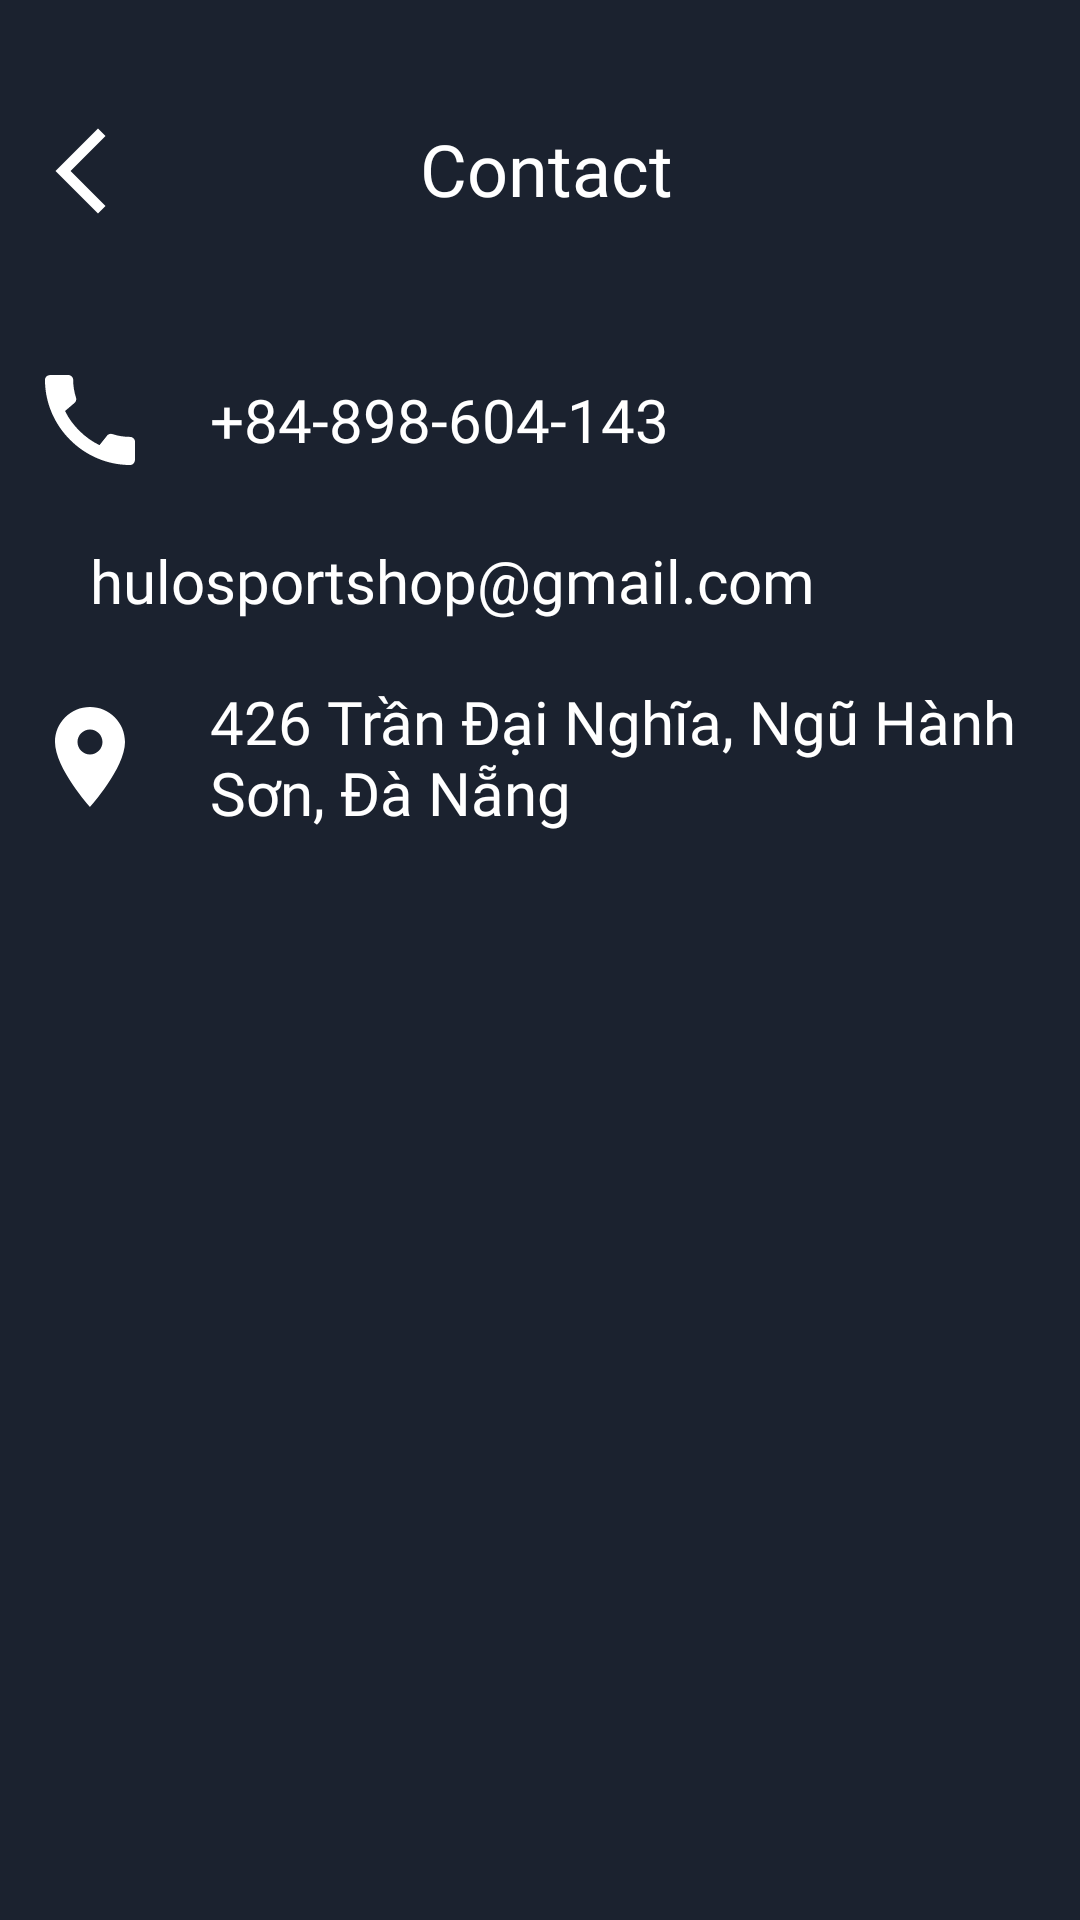

Icons on this 1080*1920 Android screen, each with the point to tap as [x,y]:
back: [80,171]
call: [90,420]
location: [90,757]
